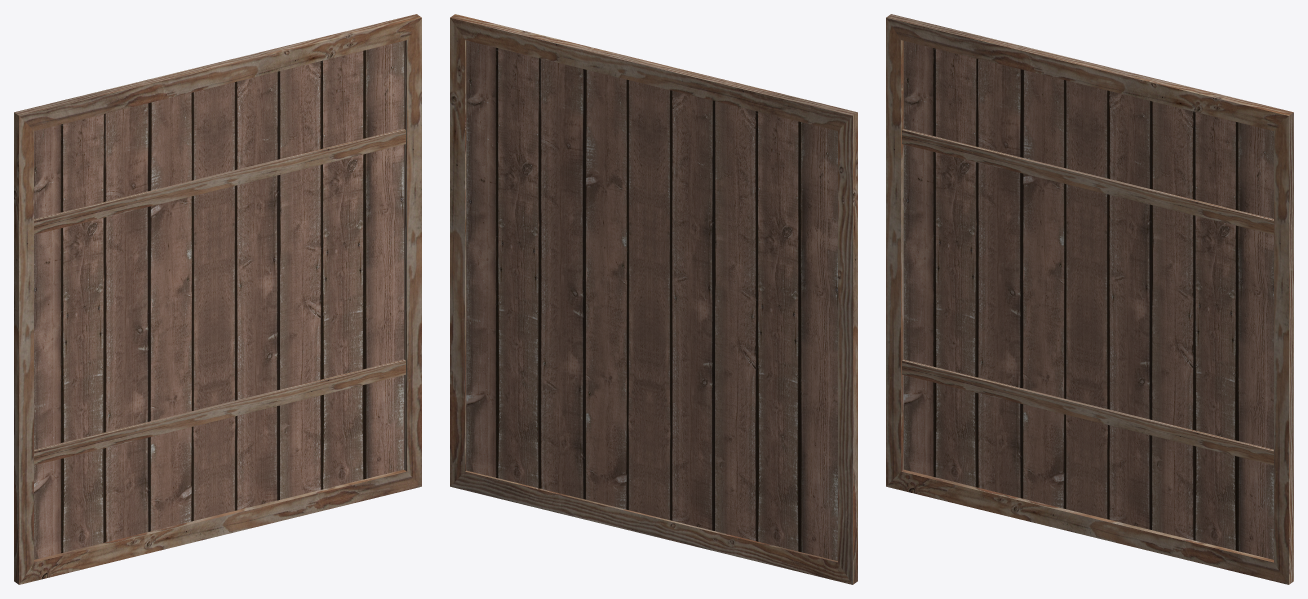
File: Door.fbx
3 renders of one model, left to right at view 1: azimuth 30°, elevation 25°; view 2: azimuth 150°, elevation 25°; view 3: azimuth 330°, elevation 25°, orthographic.
Visible parts, largest first — view 1: Door; view 2: Door; view 3: Door.
Boxes of the visible parts, <box> form: Door: <box>14,14,421,584</box>; Door: <box>450,14,857,584</box>; Door: <box>886,14,1293,584</box>.
Size of the model in its own units: 2.5 by 2.78 by 0.0542.
